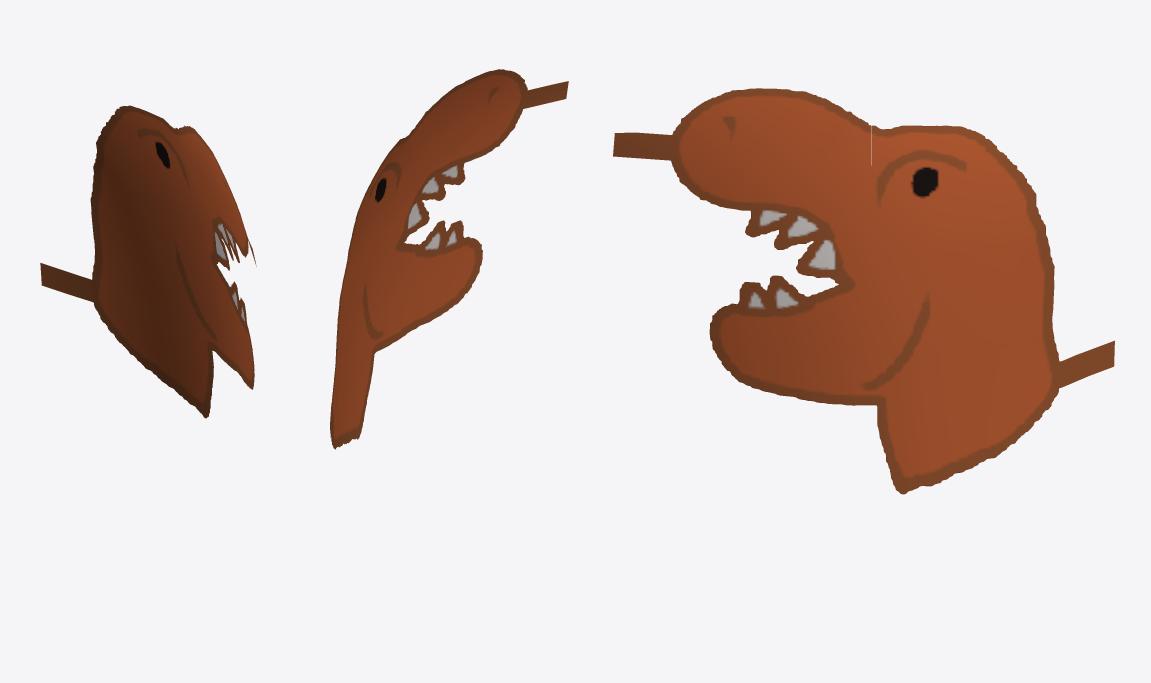
The model's file is Dinosaur.fbx.
The picture shows the model from 3 angles, left to right: view 1: azimuth 30°, elevation 25°; view 2: azimuth 150°, elevation 25°; view 3: azimuth 270°, elevation 25°; orthographic projection. The views are drawn at different scales.
Parts seen in each view (by area): view 1: Dinosaur; view 2: Dinosaur; view 3: Dinosaur.
Part boxes in pixels (x1,y1,x2,y2): Dinosaur: [40, 105, 256, 418]; Dinosaur: [330, 69, 568, 449]; Dinosaur: [613, 88, 1114, 494].
Size of the model in its own units: 15 by 71.33 by 56.36.
